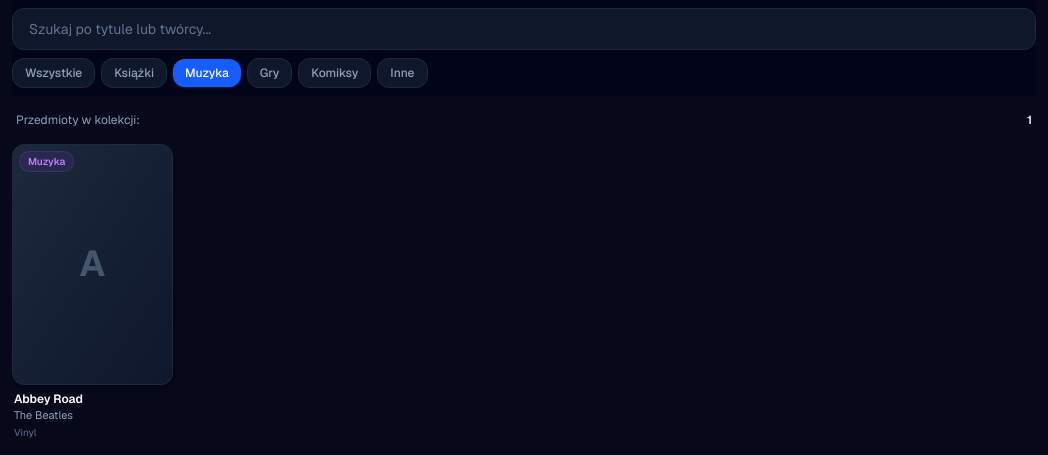
Test: ItemList › matches the creator and combines search with the category filter
In the search field named "Szukaj w kolekcji": (524, 29) [12, 8, 1036, 50], type "stanislaw"
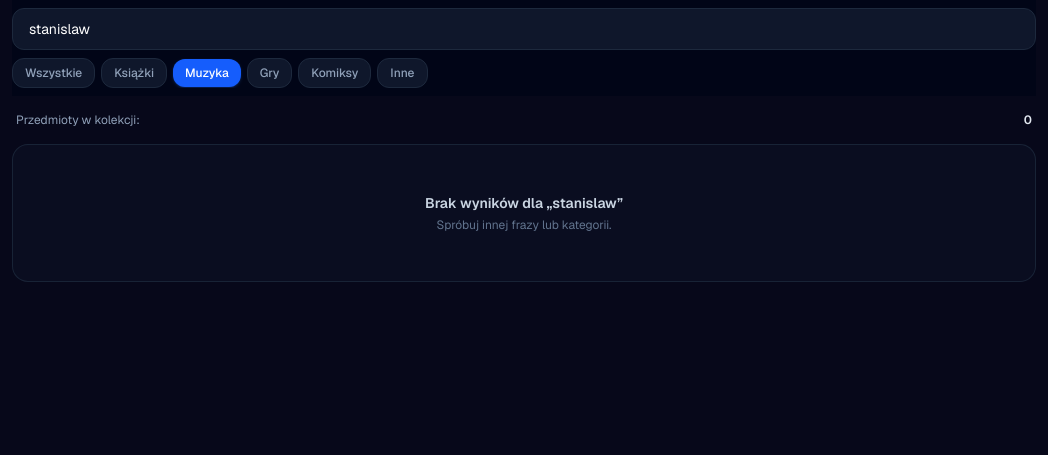
Expected: the text "Brak wyników dla „stanislaw”" is shown, [425, 194, 623, 212]
Replace the text in the search field named "Szukaj w kolekcji" with "beatles": (524, 29) [12, 8, 1036, 50]
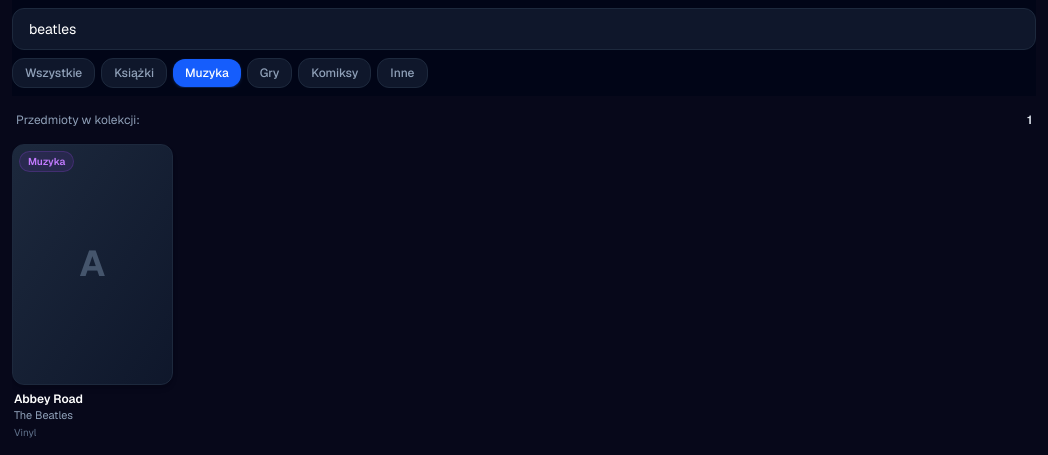
Expected: the heading "Abbey Road" is shown, [14, 391, 83, 407]
